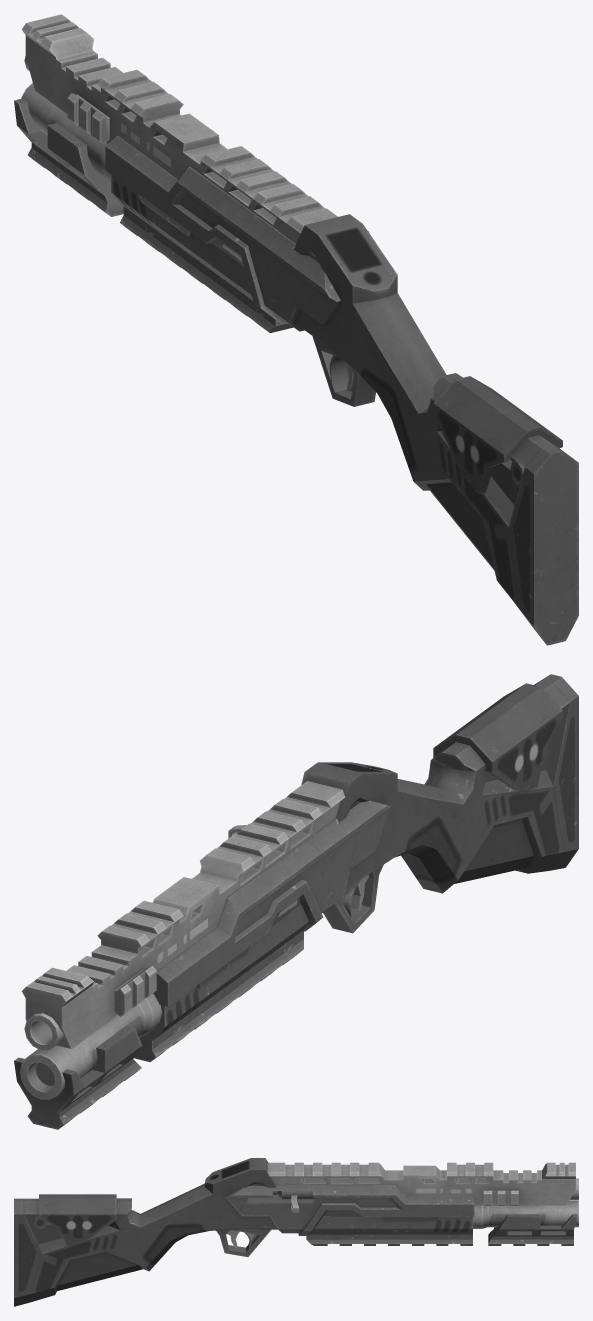
File: IG_Gun_MP155M.fbx
3 views of the same model, one above another, from view 1: azimuth 30°, elevation 25°; view 2: azimuth 150°, elevation 25°; view 3: azimuth 270°, elevation 25° (orthographic). The views are drawn at different scales.
Visible parts, largest first — view 1: Pfb_MP155Ultima; view 2: Pfb_MP155Ultima; view 3: Pfb_MP155Ultima.
Boxes of the visible parts, x1,y1,x2,y2 form: Pfb_MP155Ultima: (14, 14, 578, 645); Pfb_MP155Ultima: (14, 674, 578, 1129); Pfb_MP155Ultima: (14, 1158, 578, 1306).
Size of the model in its own units: 0.143 by 0.3531 by 1.29.
